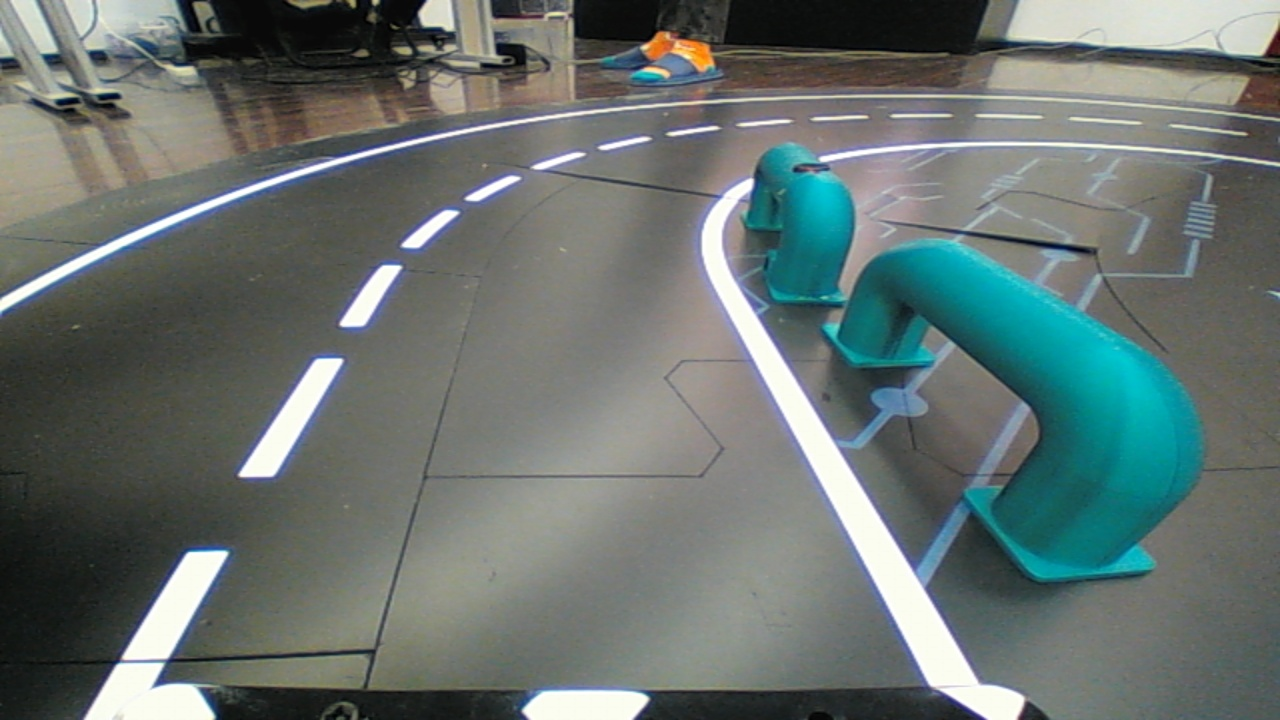No entry: (832, 220, 1223, 597)
Pedestrian crossing: (739, 122, 870, 325)
